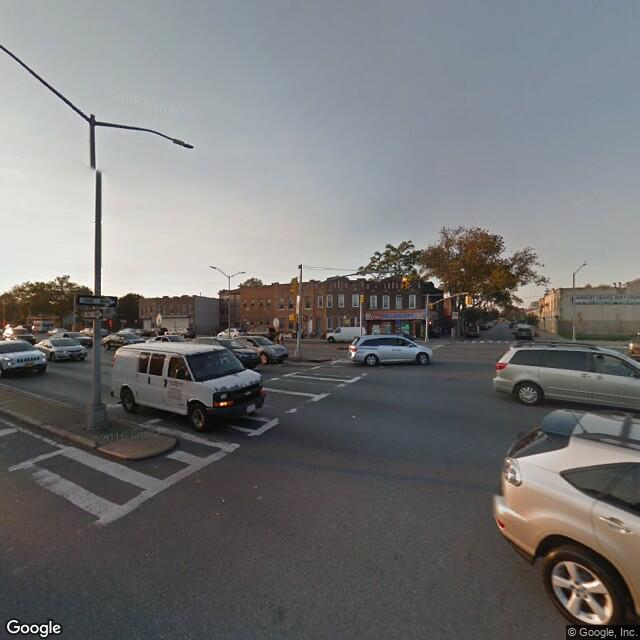litter: (205, 497, 287, 523), (342, 411, 357, 419)
